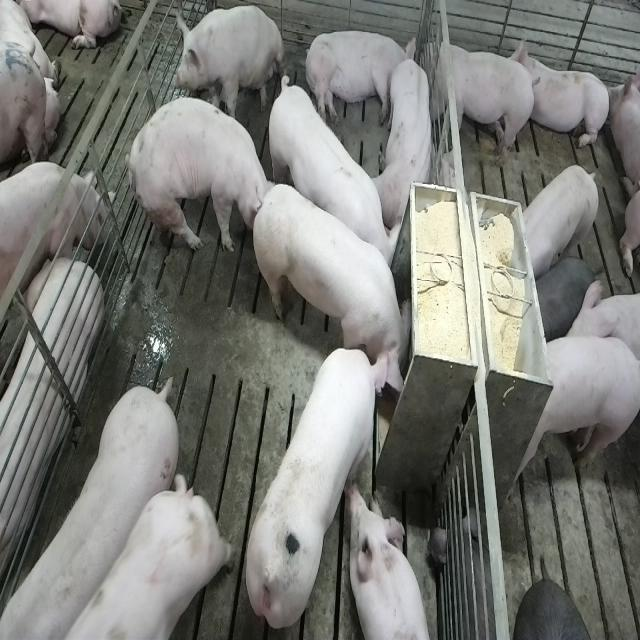Feeding: (244, 342, 392, 630), (257, 172, 420, 390)
Lateral_lying: (0, 252, 102, 615), (303, 28, 416, 128)
Sitting: (172, 6, 286, 127)
Standing: (0, 379, 176, 640), (12, 474, 233, 640), (265, 72, 397, 283), (125, 95, 272, 262), (508, 335, 638, 494), (422, 30, 537, 171), (0, 164, 107, 306), (516, 163, 600, 280), (529, 255, 603, 338)
Sternal_lying: (348, 485, 432, 640), (515, 34, 613, 155), (375, 56, 437, 230)
